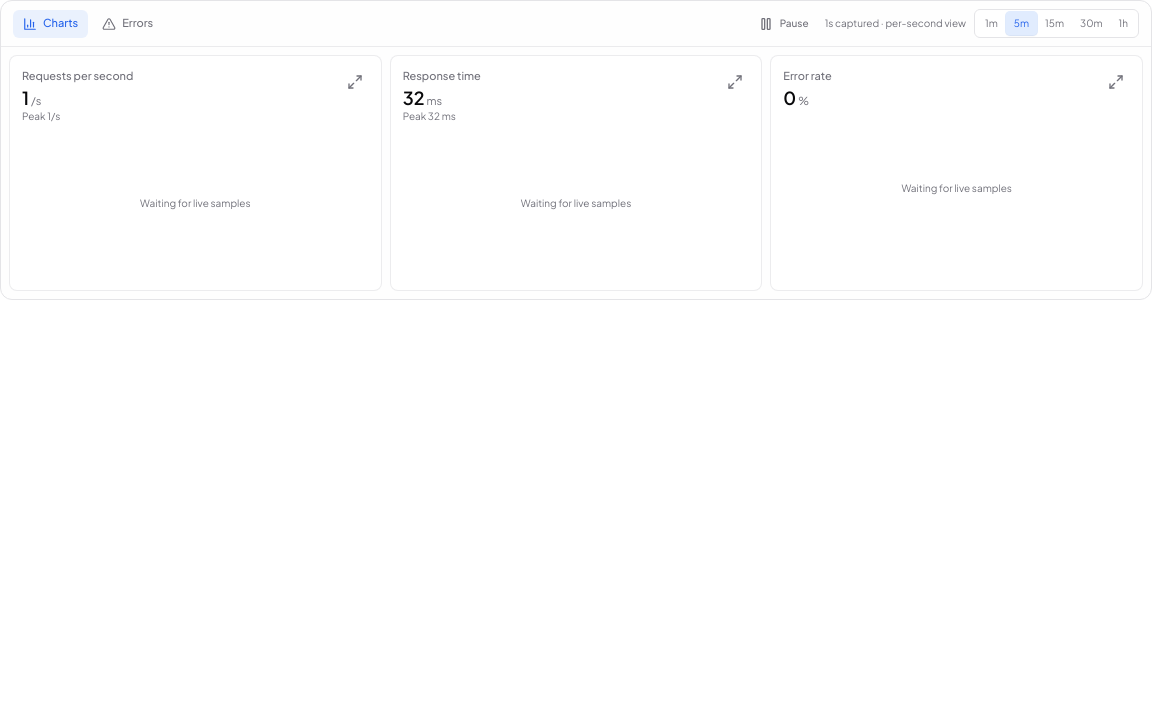
it: OperationsChart focus mode › expands one chart and restores the dashboard
Click the button named "Expand Response time" at (735, 82), box [721,68,749,96]
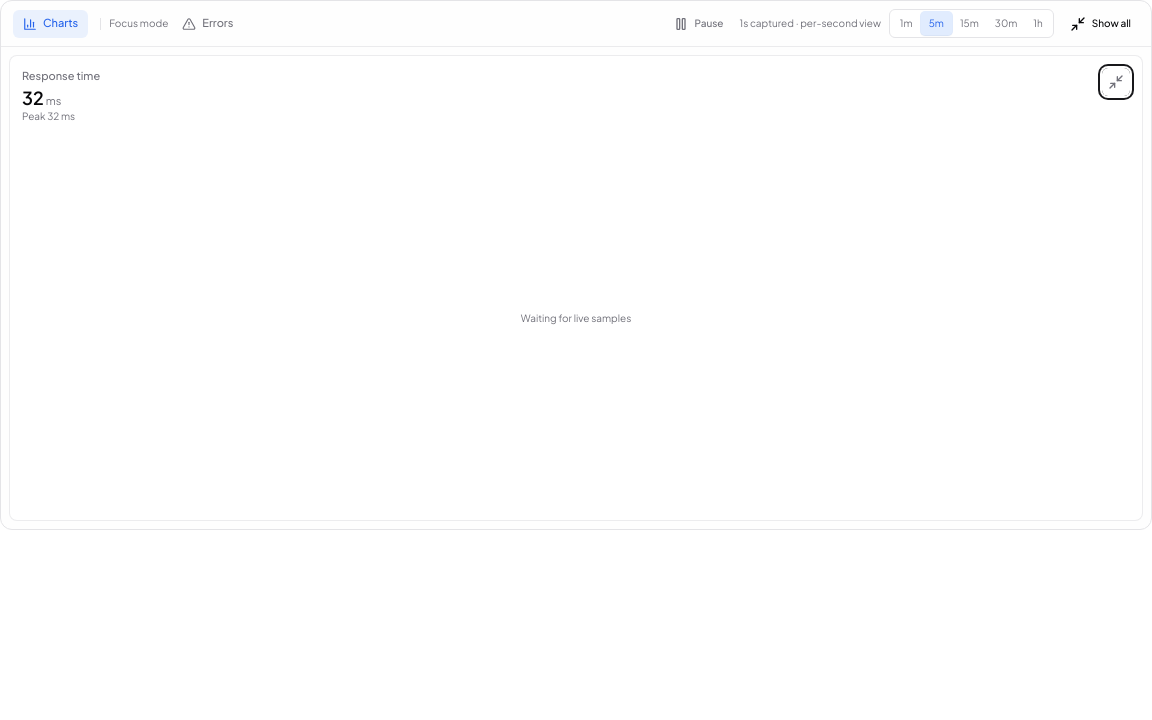
Check: the text "Requests per second" is gone
Check: the text "Error rate" is gone
Check: the text "Focus mode" is shown, box [100,16,168,31]
Click the button with aria-label "Show all charts" at (1100, 24), box [1062,10,1139,38]
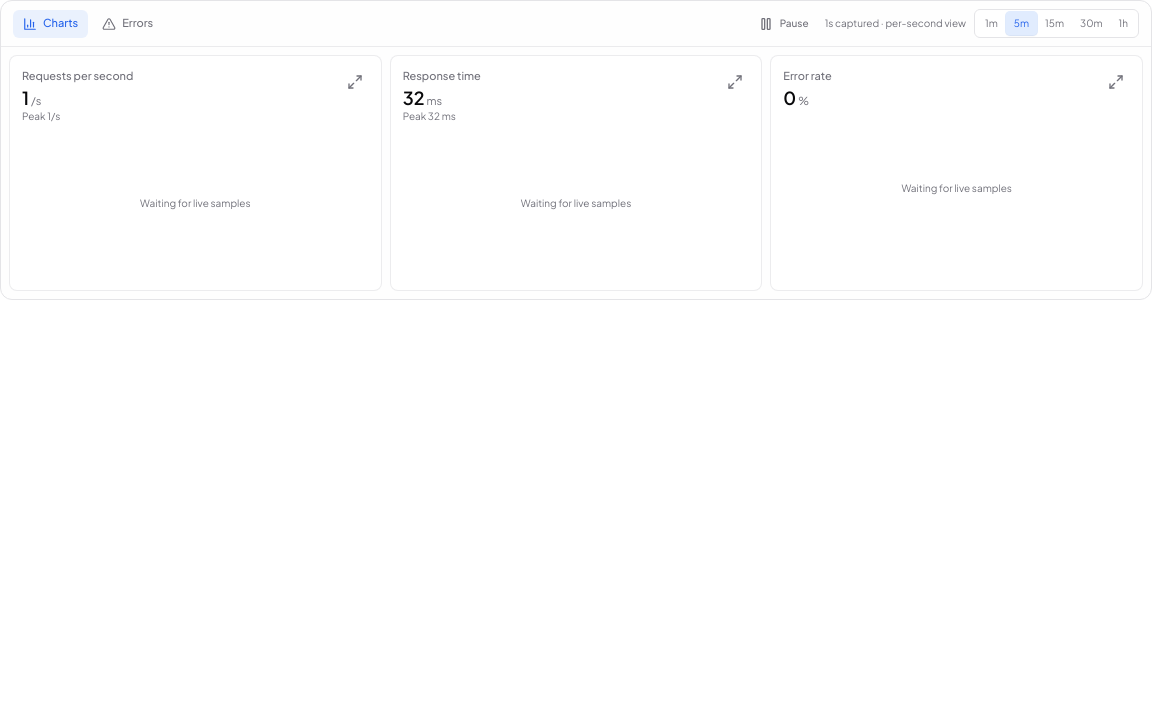
Check: the text "Requests per second" is shown, box [22,68,133,84]
Check: the text "Error rate" is shown, box [783,68,832,84]
